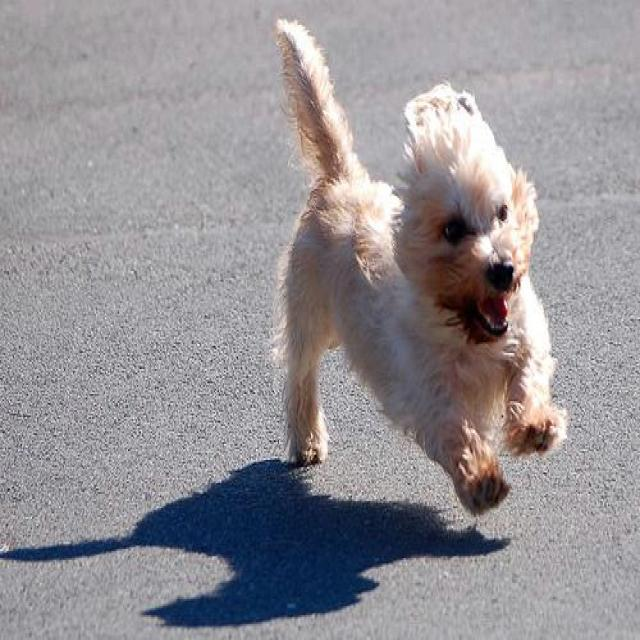dandie_dinmont: (271, 16, 571, 517)
